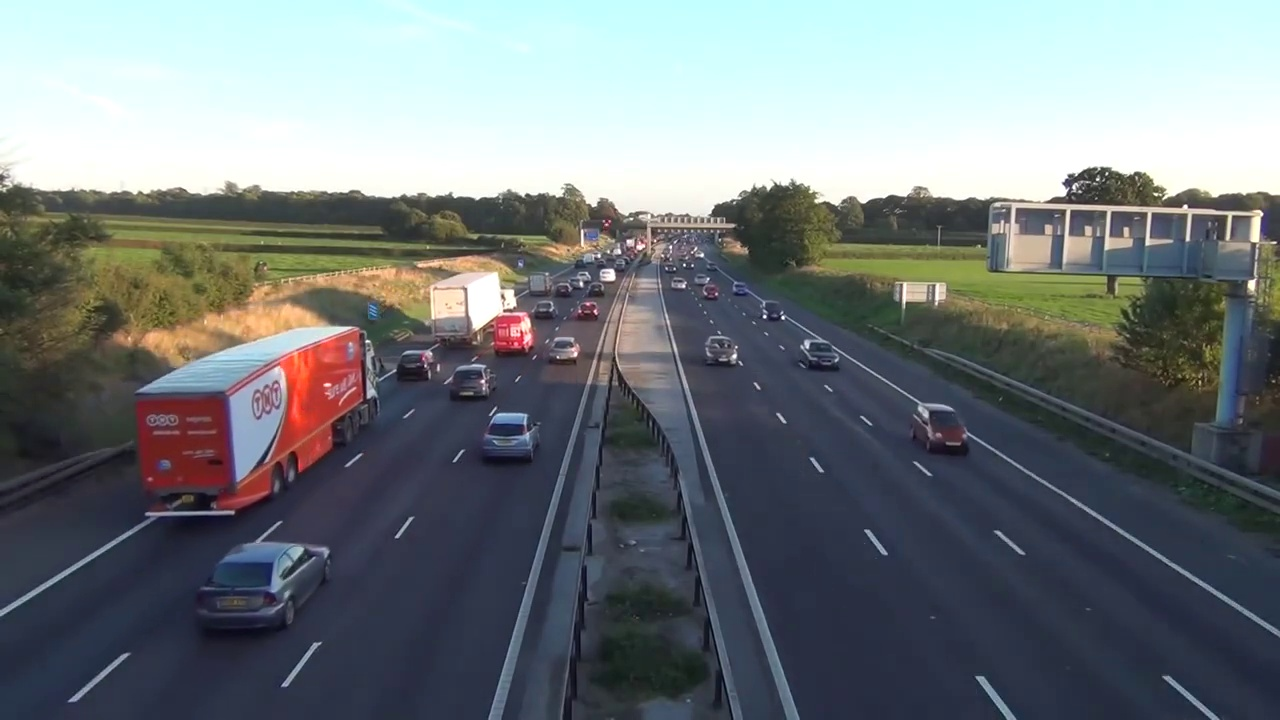bus: (197, 541, 334, 628), (909, 403, 970, 457), (480, 411, 541, 463), (453, 363, 495, 399), (801, 339, 841, 370), (400, 349, 438, 380), (705, 334, 739, 368), (549, 337, 580, 364), (761, 301, 787, 325), (575, 301, 598, 323), (532, 303, 560, 318), (702, 286, 721, 300), (732, 282, 749, 295)
car: (143, 326, 375, 523), (431, 271, 502, 345)
lorry: (498, 289, 518, 314)
minibus: (493, 314, 533, 355)
